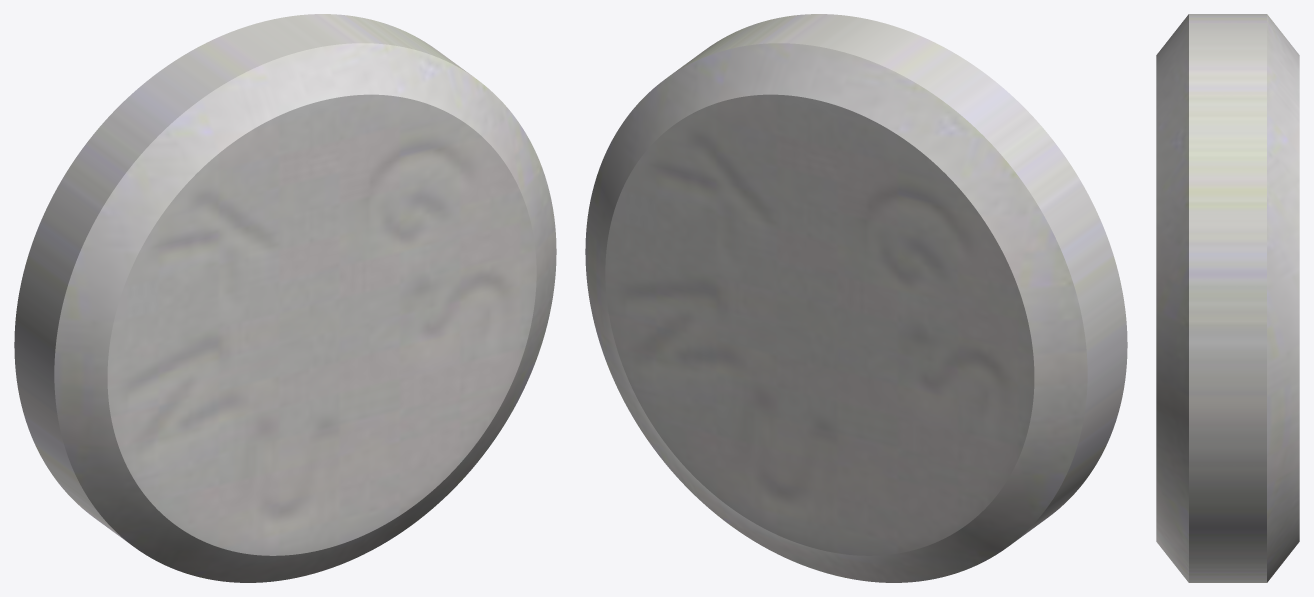
Rendered from 20140311GOPHDRGPT00076.fbx.
The picture shows the model from 3 angles, left to right: view 1: azimuth 30°, elevation 25°; view 2: azimuth 150°, elevation 25°; view 3: azimuth 270°, elevation 25°; orthographic projection.
Parts seen in each view (by area): view 1: BezierCircle; view 2: BezierCircle; view 3: BezierCircle.
Part boxes in pixels (x1,y1,x2,y2): BezierCircle: (14, 14, 556, 582); BezierCircle: (585, 14, 1127, 582); BezierCircle: (1156, 14, 1299, 582).
Size of the model in its own units: 7.61 by 7.61 by 1.92.
Materials: 1 (1 with a texture image).
